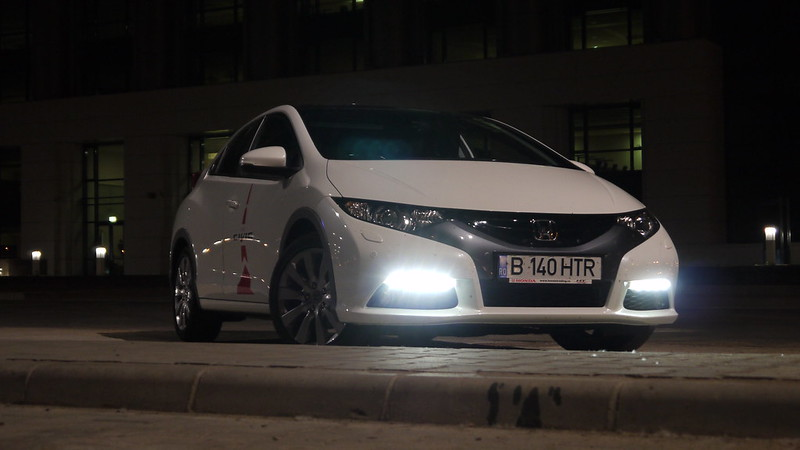car: (162, 98, 686, 358)
